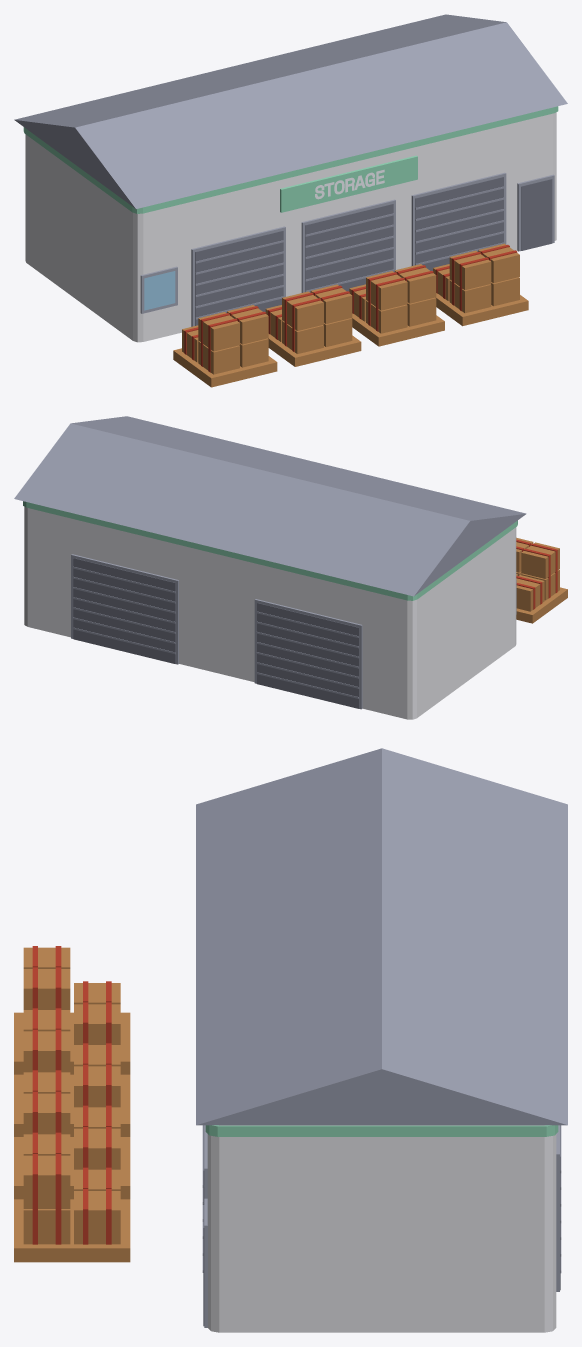
The model's file is storehouse-2x2-t4-tone-a.glb.
3 renders of one model, top to bottom at view 1: azimuth 30°, elevation 25°; view 2: azimuth 150°, elevation 25°; view 3: azimuth 270°, elevation 25°, orthographic. The views are drawn at different scales.
Visible parts, largest first — view 1: storehouse-2x2-t4-tone-a; view 2: storehouse-2x2-t4-tone-a; view 3: storehouse-2x2-t4-tone-a.
Part boxes in pixels (left/top/right/bottom): storehouse-2x2-t4-tone-a: left=14, top=14, right=567, bottom=387; storehouse-2x2-t4-tone-a: left=14, top=416, right=567, bottom=719; storehouse-2x2-t4-tone-a: left=14, top=748, right=567, bottom=1332.
Bounding box in the file's own units: 1.96 × 0.76 × 1.43.
Materials: 1 (1 with a texture image).
